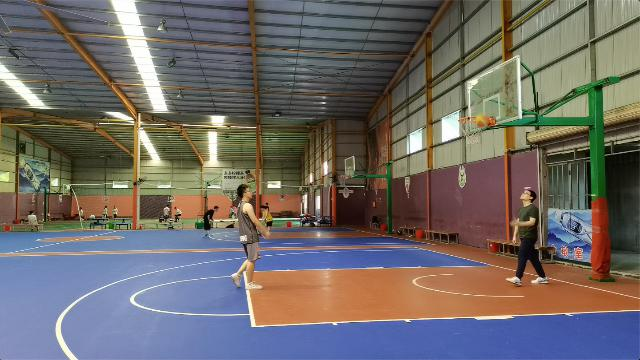ball: (475, 113, 489, 126)
basket: (457, 115, 487, 145)
